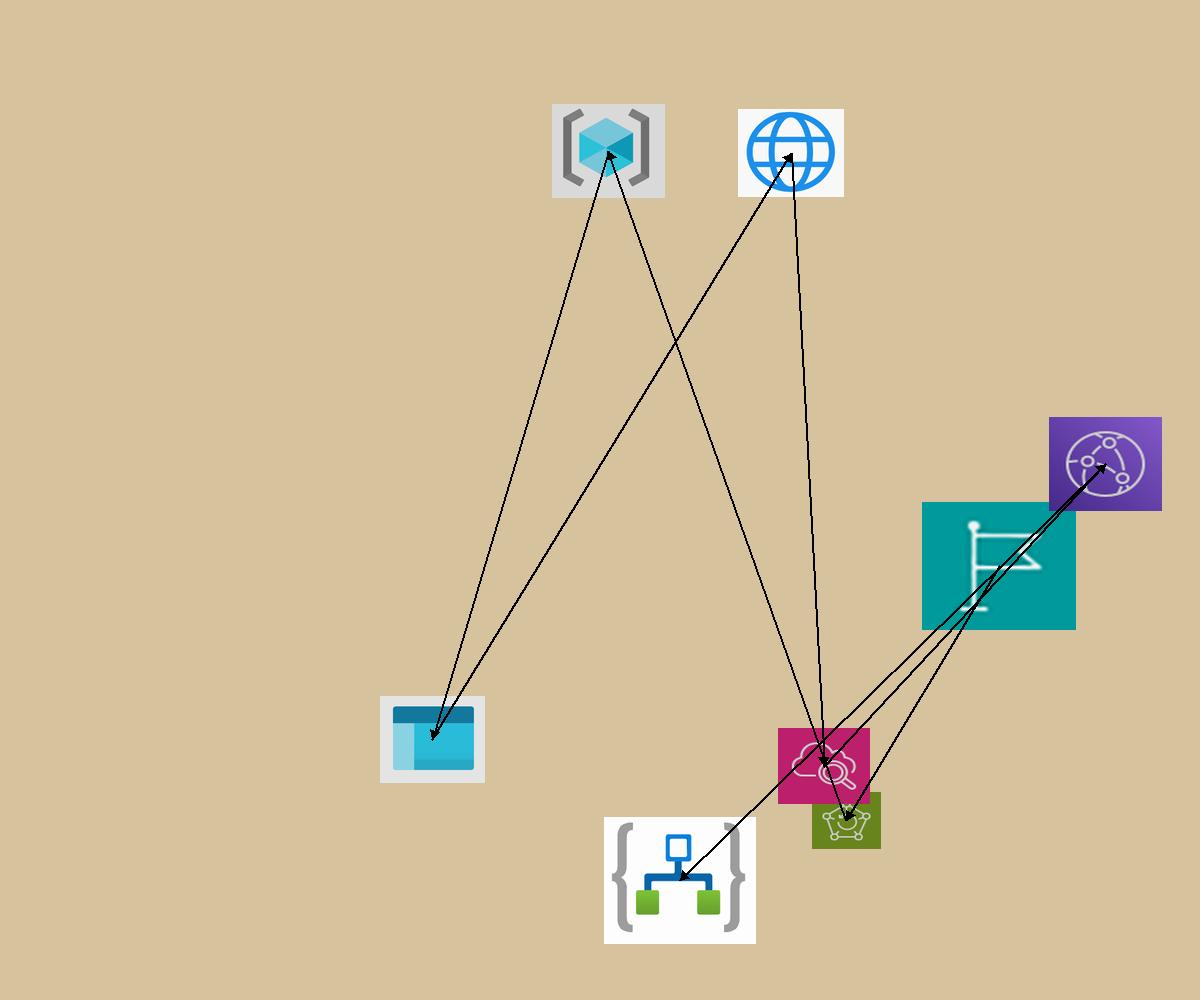AWS-Backup: (812, 792, 881, 849)
AWS-CloudFront: (1049, 417, 1162, 511)
AWS-CloudWatch: (778, 728, 870, 804)
AWS-Region: (922, 502, 1076, 630)
Azure_http: (738, 109, 844, 197)
Azure_integration-204-Logic-Apps: (604, 817, 756, 944)
Azure_management-portal: (380, 696, 485, 783)
Azure_resource_group: (552, 104, 665, 198)
